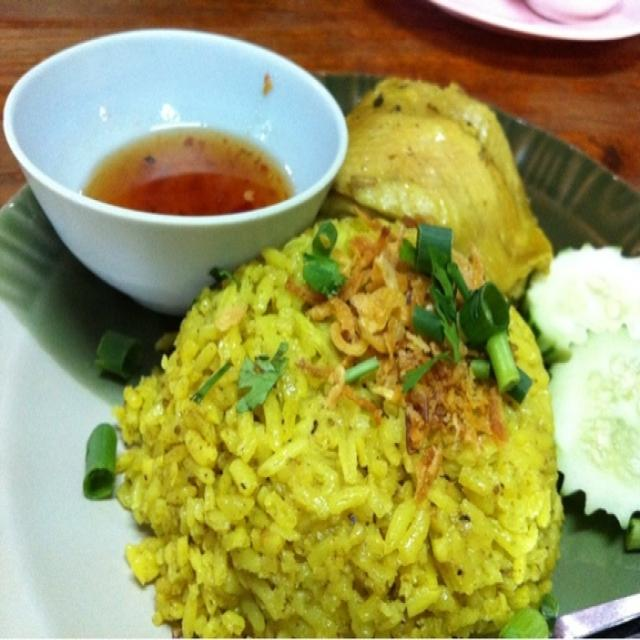米饭主食: (11, 13, 609, 634)
